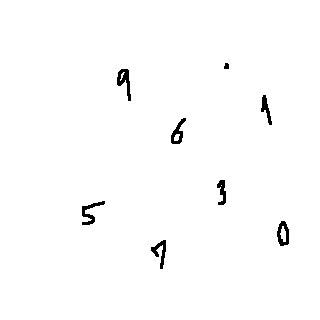.: (218, 54, 237, 80)
0: (274, 218, 300, 253)
1: (253, 88, 293, 134)
3: (210, 171, 235, 218)
5: (78, 197, 113, 233)
6: (166, 116, 196, 152)
7: (146, 236, 185, 273)
9: (112, 64, 141, 107)
